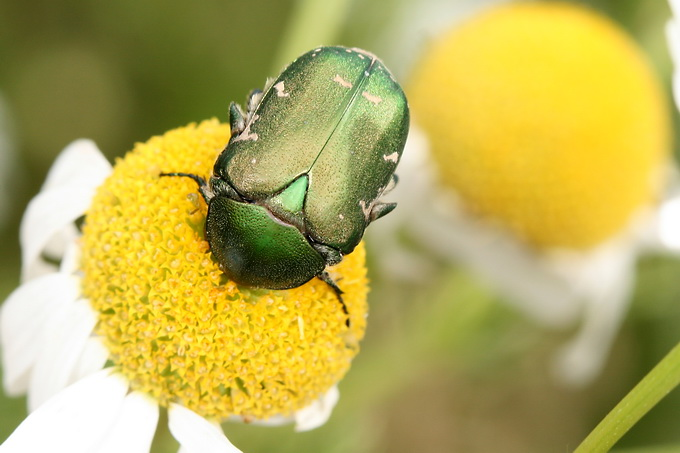Protaetia_ungarica: (160, 38, 416, 330)
